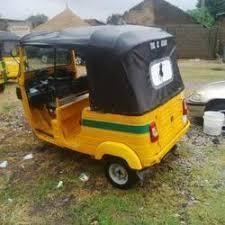keke: (9, 24, 207, 204)
